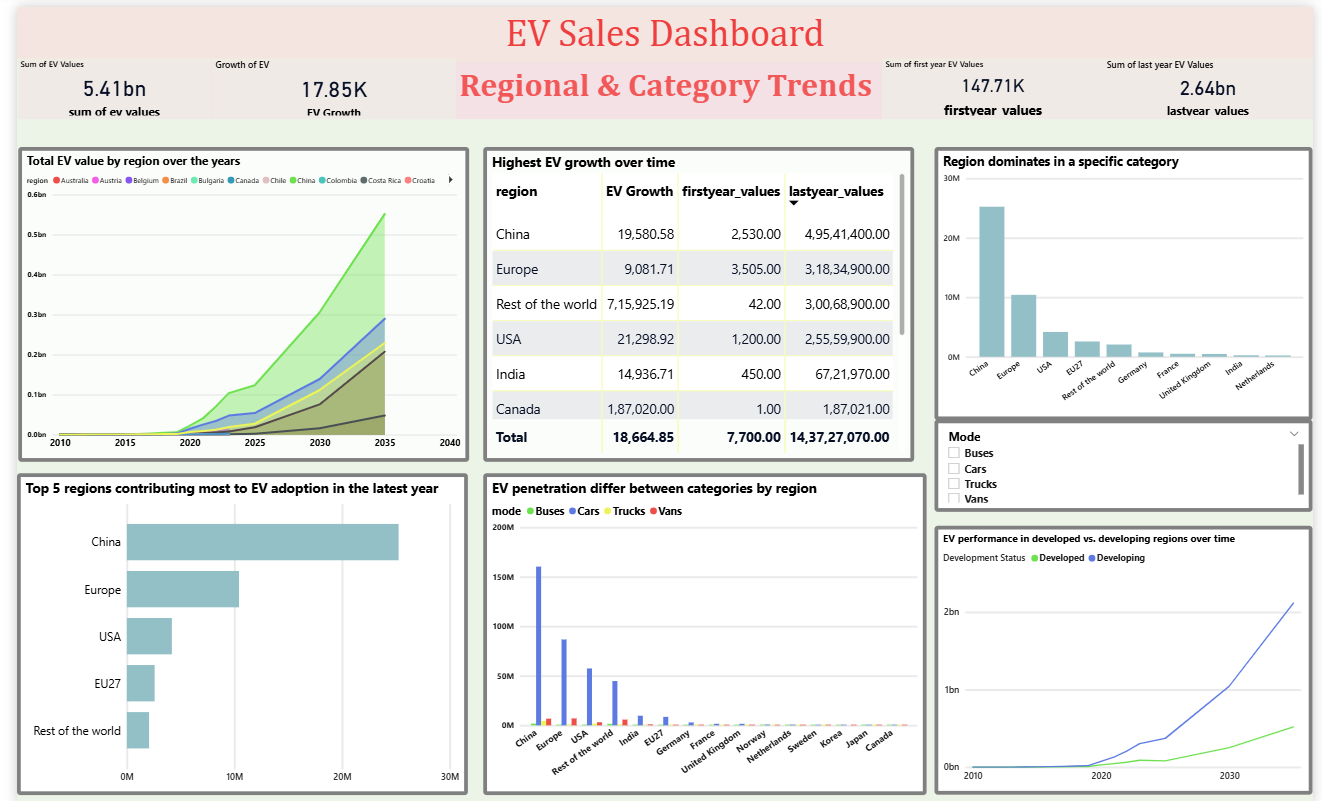

The page's visual inventory and layout, read from the dashboard file:
{"tool":"powerbi","page":{"name":"Page 1","canvas":[1920,1180],"ordinal":0},"visuals":[{"type":"areaChart","title":"Total EV value by region over the years","fields":{"Category":["IEA Global EV Data 2024 (1).year"],"Y":["Sum(EV_dataset.value)"],"Series":["EV_dataset.region"]},"box":[1.7,206.7,668.3,466.7],"z":0},{"type":"tableEx","title":"Highest EV growth over time","fields":{"Values":["EV_dataset.region","EV_dataset.EV Growth","EV_dataset.firstyear_values","EV_dataset.lastyear_values"]},"box":[690,206.7,638.3,466.7],"z":1000},{"type":"textbox","box":[0,0,1920,82],"z":2000},{"type":"clusteredBarChart","title":"Top 5 regions contributing most to EV adoption in the latest year","fields":{"Category":["EV_dataset.region"],"Y":["EV_dataset.sum of ev values"]},"box":[0,690,668.3,476.7],"z":3000},{"type":"clusteredColumnChart","title":"EV penetration differ between categories by region","fields":{"Category":["EV_dataset.region"],"Y":["Sum(EV_dataset.value)"],"Series":["EV_dataset.mode"]},"box":[690,690,656.7,476.7],"z":4000},{"type":"clusteredColumnChart","title":"Region dominates in a specific category ","fields":{"Category":["EV_dataset.region"],"Y":["Sum(EV_dataset.value)"]},"box":[1360,206.7,560,405],"z":5000},{"type":"slicer","fields":{"Values":["EV_dataset.mode"]},"box":[1360,611.7,560,136.7],"z":6000},{"type":"lineChart","title":"EV performance in developed vs. developing regions over time","fields":{"Category":["EV_dataset.year"],"Y":["Sum(EV_dataset.value)"],"Series":["EV_dataset.Development Status"]},"box":[1360,768.3,560,398.3],"z":7000},{"type":"textbox","box":[1.7,81.7,1918.3,85],"z":8000},{"type":"card","title":"Sum of EV Values","fields":{"Values":["EV_dataset.sum of ev values"]},"box":[0,76.7,288.3,90],"z":9000},{"type":"card","title":"Growth of EV ","fields":{"Values":["EV_dataset.EV Growth"]},"box":[288.3,76.7,361.7,90],"z":10000},{"type":"card","title":"Sum of first year EV Values","fields":{"Values":["EV_dataset.firstyear_values"]},"box":[1281.7,76.7,328.3,90],"z":11000},{"type":"card","title":"Sum of last year EV Values","fields":{"Values":["EV_dataset.lastyear_values"]},"box":[1610,76.7,310,90],"z":12000}]}

Visuals, with their boxes in screenshot pixels (x1, y1, x2, y2), scaled from the page's 1920x1180 canvas onto the 1322x801 screenshot:
"Total EV value by region over the years" areaChart: (1,140,461,457)
"Highest EV growth over time" tableEx: (475,140,915,457)
textbox: (0,0,1321,56)
"Top 5 regions contributing most to EV adoption in the latest year" clusteredBarChart: (0,468,460,792)
"EV penetration differ between categories by region" clusteredColumnChart: (475,468,927,792)
"Region dominates in a specific category " clusteredColumnChart: (936,140,1321,415)
slicer - EV_dataset.mode: (936,415,1321,508)
"EV performance in developed vs. developing regions over time" lineChart: (936,522,1321,792)
textbox: (1,55,1321,113)
"Sum of EV Values" card: (0,52,199,113)
"Growth of EV " card: (199,52,448,113)
"Sum of first year EV Values" card: (883,52,1109,113)
"Sum of last year EV Values" card: (1109,52,1321,113)
